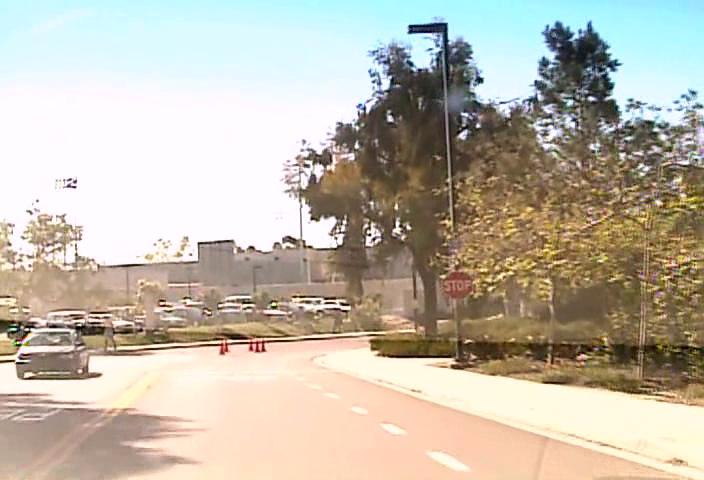stop: (442, 269, 474, 299)
